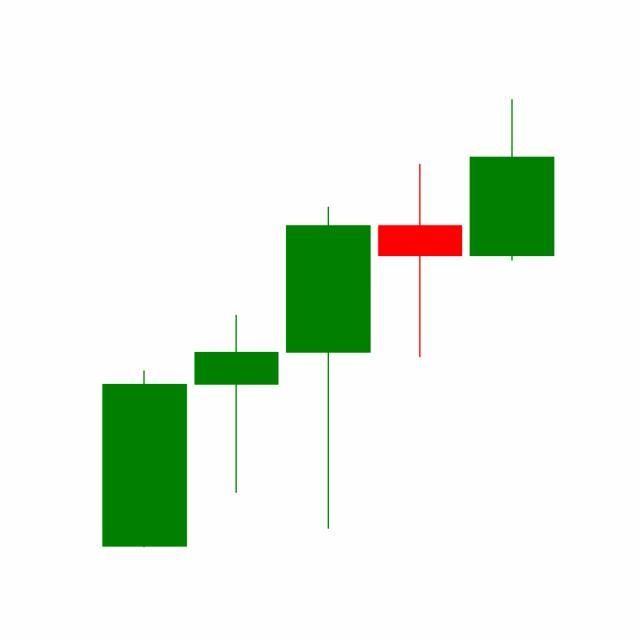Spinning Top: (374, 162, 468, 361)
